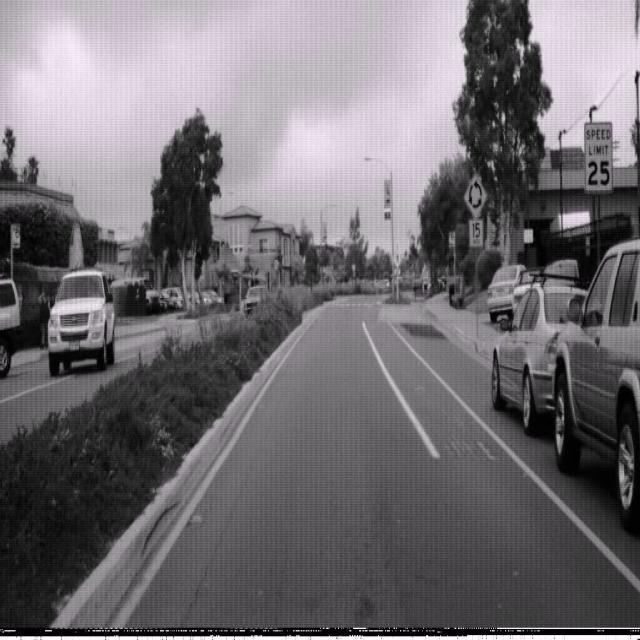speedLimit25: (584, 120, 614, 194)
